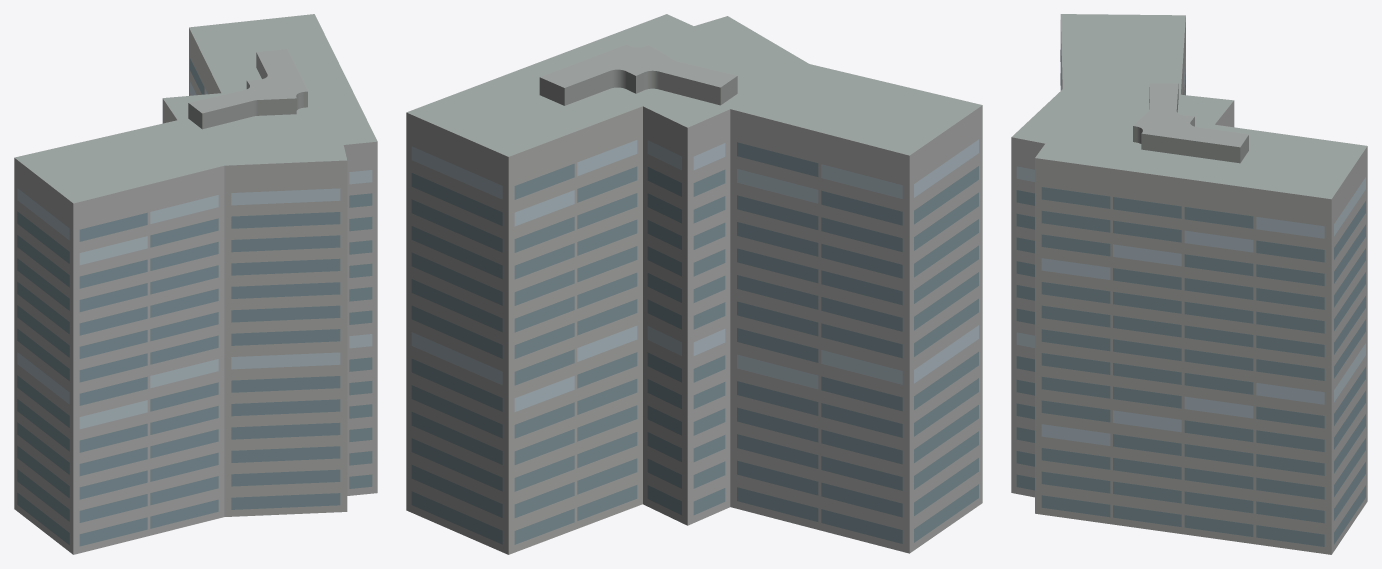
File: fallback-onepentas-105.glb
3 renders of one model, left to right at view 1: azimuth 30°, elevation 25°; view 2: azimuth 150°, elevation 25°; view 3: azimuth 270°, elevation 25°, orthographic. The views are drawn at different scales.
Visible parts, largest first — view 1: fallback-onepentas-105; view 2: fallback-onepentas-105; view 3: fallback-onepentas-105.
Boxes of the visible parts, <box> form: fallback-onepentas-105: <box>14,14,377,554</box>; fallback-onepentas-105: <box>406,14,982,554</box>; fallback-onepentas-105: <box>1011,14,1367,554</box>.
Bounding box in the file's own units: 51.13 × 47.81 × 41.52.
